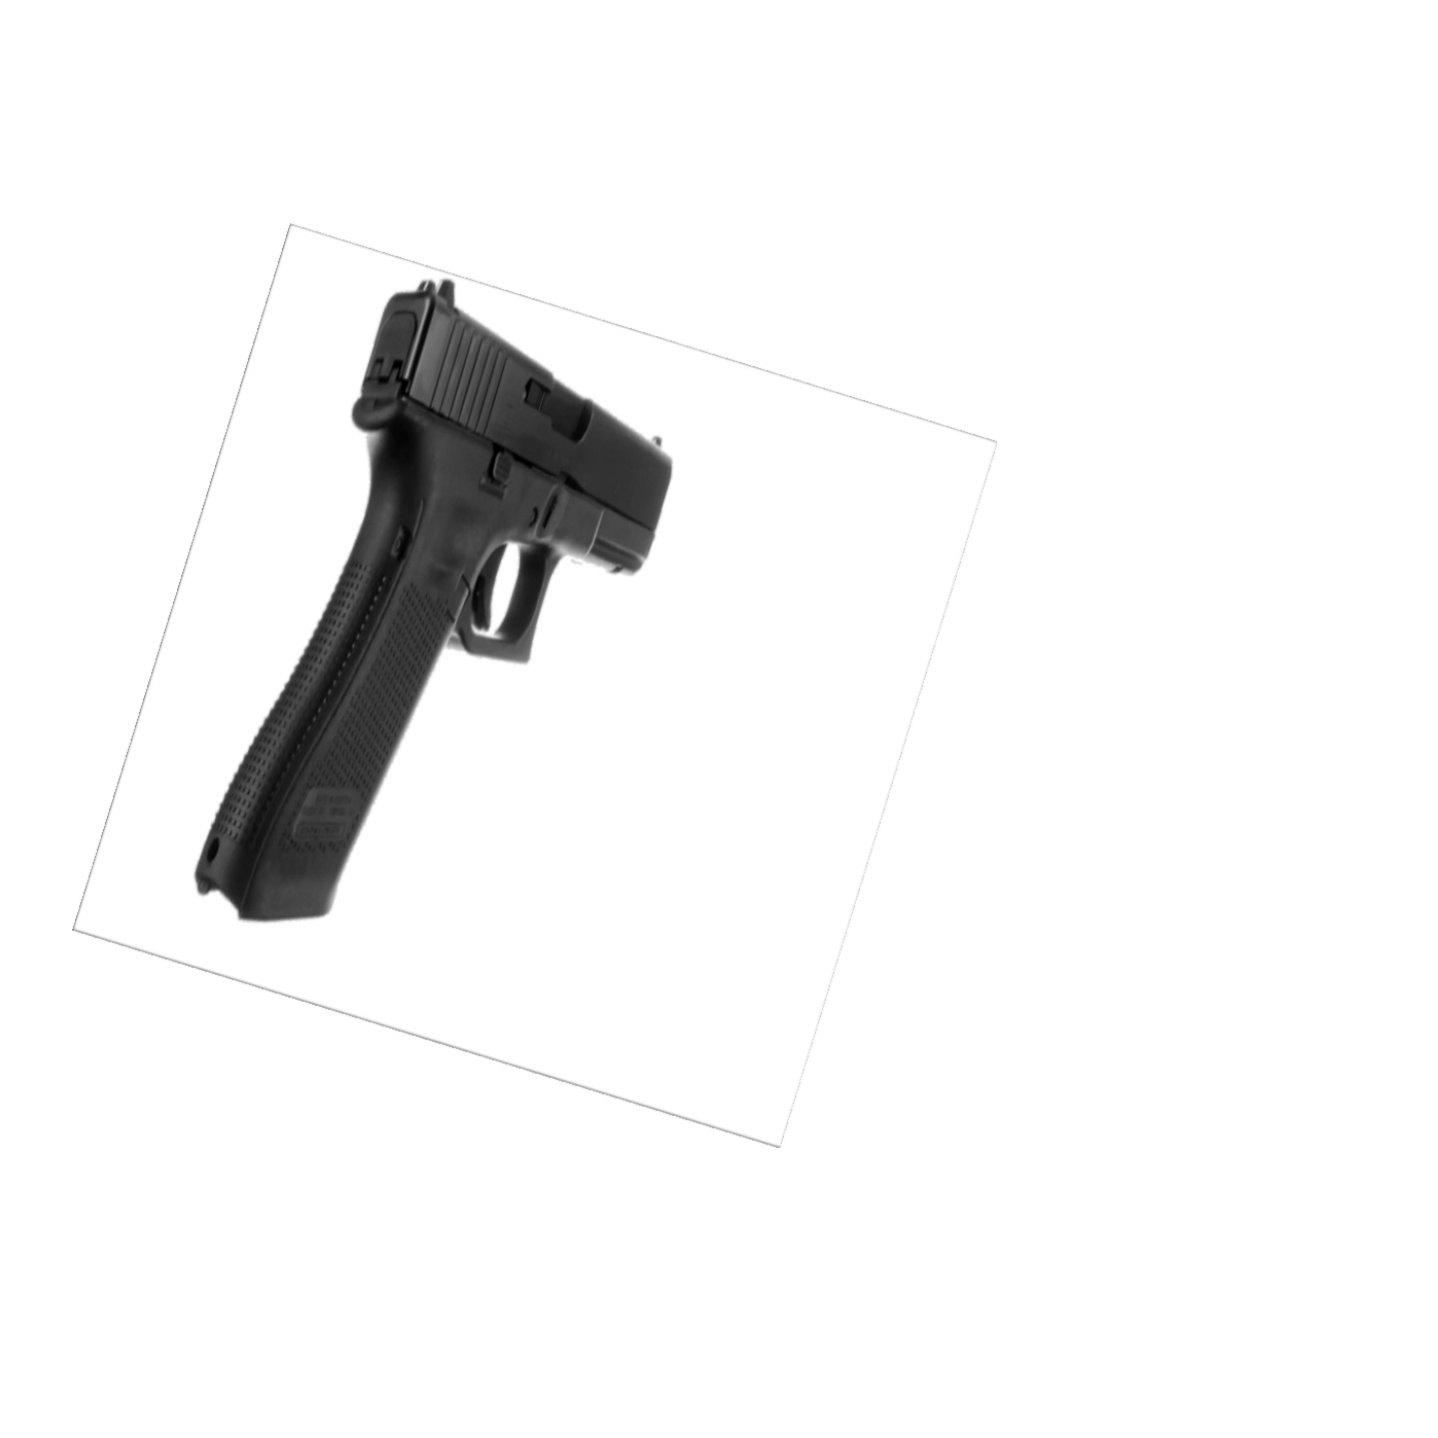gun: (192, 277, 673, 923)
